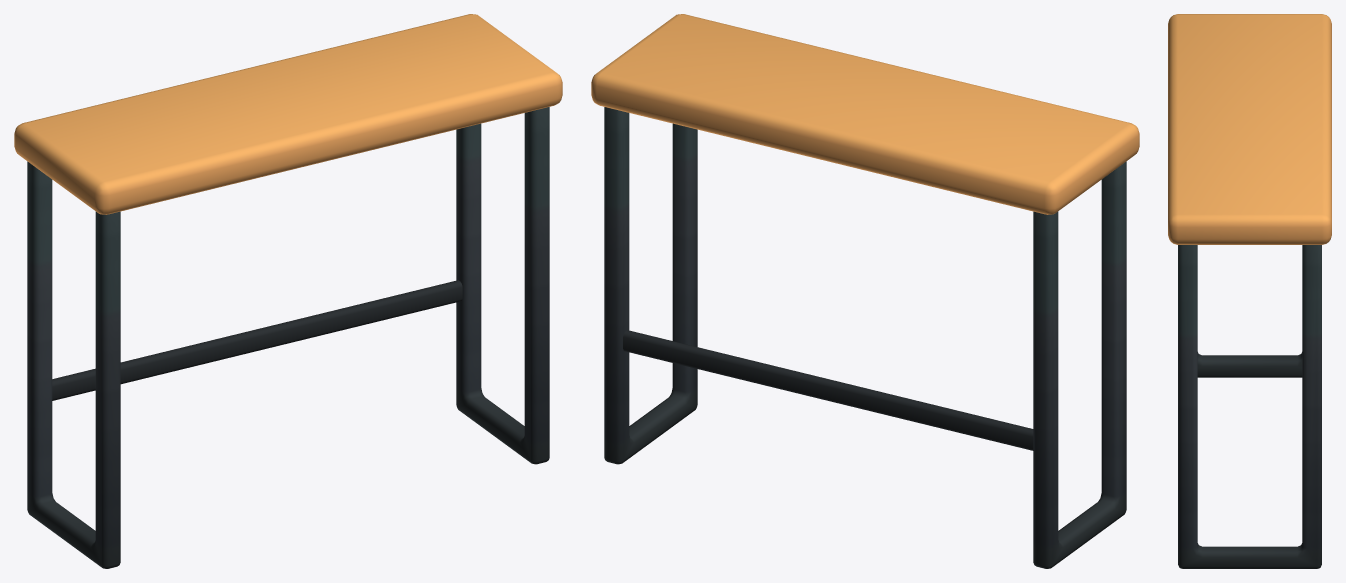
The model's file is Kitchen_Table_15.glb.
3 renders of one model, left to right at view 1: azimuth 30°, elevation 25°; view 2: azimuth 150°, elevation 25°; view 3: azimuth 270°, elevation 25°, orthographic. The views are drawn at different scales.
Visible parts, largest first — view 1: Kitchen_Table_15; view 2: Kitchen_Table_15; view 3: Kitchen_Table_15.
Boxes of the visible parts, x1,y1,x2,y2 form: Kitchen_Table_15: [14, 14, 562, 568]; Kitchen_Table_15: [591, 14, 1139, 568]; Kitchen_Table_15: [1168, 14, 1331, 568].
Bounding box in the file's own units: 1.5 × 1.2 × 0.5.
1 material, 1 textured.
